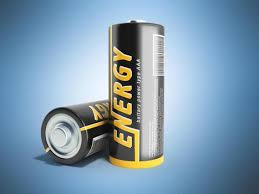battery: (33, 16, 179, 169)
